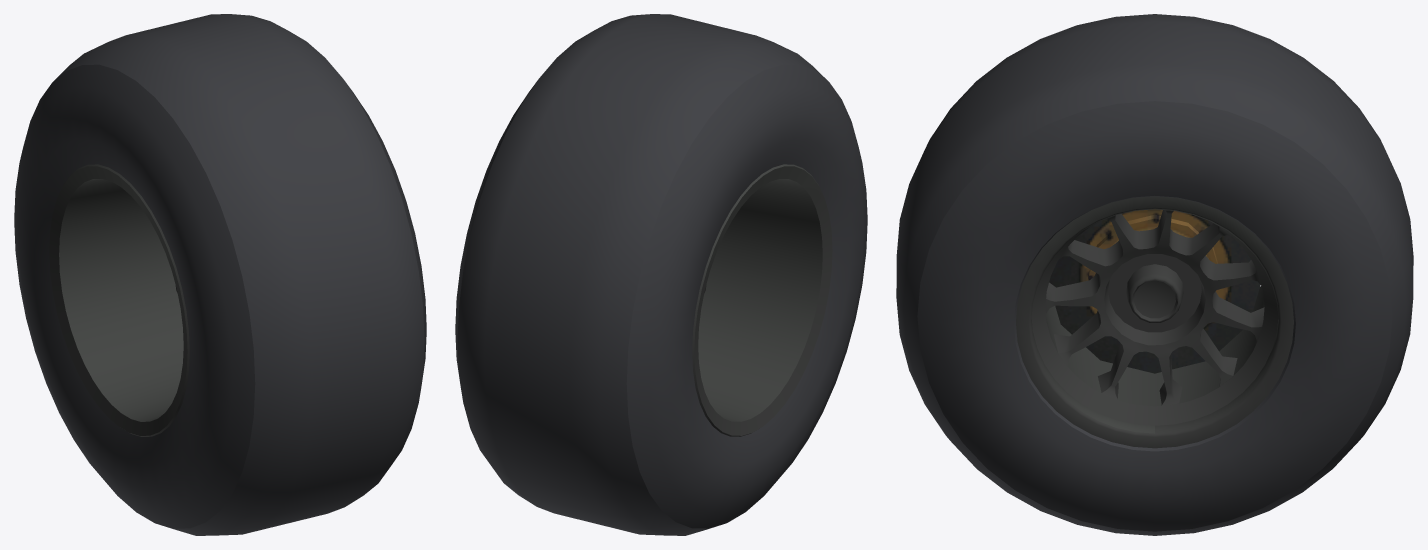
Rendered from wheel2.obj.
3 views of the same model, side by side, from view 1: azimuth 30°, elevation 25°; view 2: azimuth 150°, elevation 25°; view 3: azimuth 270°, elevation 25° (orthographic).
Parts seen in each view (by area): view 1: object__48, object__47, object__19; view 2: object__48, object__47, object__19; view 3: object__47, object__48, object__19, object__37.
Part boxes in pixels (x1=…): object__48: x1=53, y1=14, x2=424, y2=535; object__47: x1=14, y1=64, x2=426, y2=528; object__19: x1=49, y1=164, x2=189, y2=436; object__48: x1=457, y1=14, x2=828, y2=535; object__47: x1=455, y1=64, x2=867, y2=528; object__19: x1=692, y1=164, x2=832, y2=436; object__47: x1=917, y1=101, x2=1392, y2=531; object__48: x1=896, y1=14, x2=1413, y2=535; object__19: x1=1016, y1=196, x2=1293, y2=448; object__37: x1=1049, y1=209, x2=1260, y2=373.
Size of the model in its own units: 0.3125 by 0.6512 by 0.6512.
